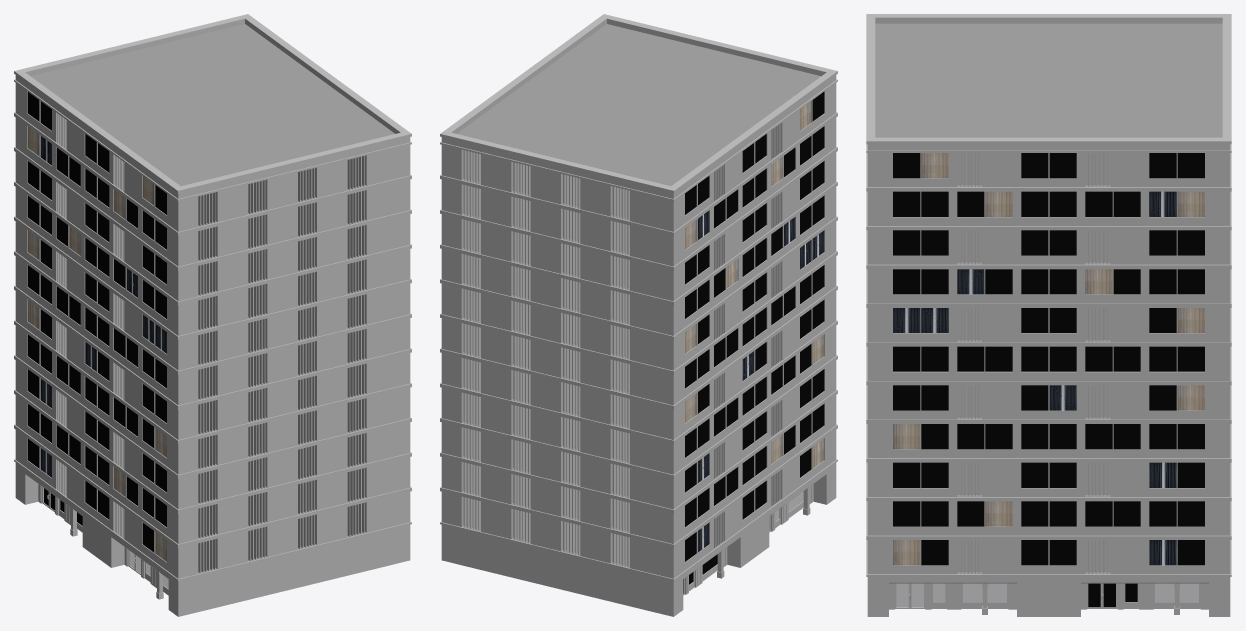
The model's file is Building08_A.fbx.
3 views of the same model, side by side, from view 1: azimuth 30°, elevation 25°; view 2: azimuth 150°, elevation 25°; view 3: azimuth 270°, elevation 25° (orthographic). The views are drawn at different scales.
Visible parts, largest first — view 1: Building08_A; view 2: Building08_A; view 3: Building08_A.
Part boxes in pixels (bbox=[...]): Building08_A: bbox=[14, 14, 411, 616]; Building08_A: bbox=[440, 14, 837, 616]; Building08_A: bbox=[866, 14, 1231, 616].
Bounding box in the file's own units: 2823 × 4921 × 3423.
